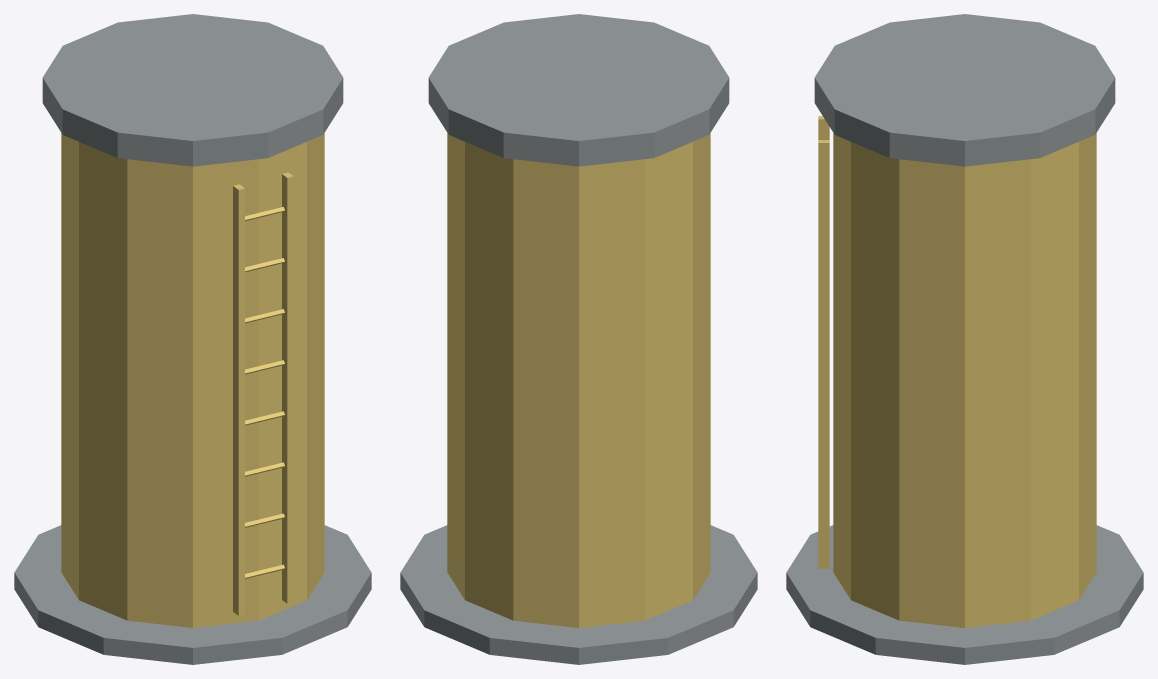
The model's file is ext_deck_crane_pedestal.fbx.
3 views of the same model, side by side, from view 1: azimuth 30°, elevation 25°; view 2: azimuth 150°, elevation 25°; view 3: azimuth 270°, elevation 25° (orthographic).
Parts seen in each view (by area): view 1: ext_deck_crane_pedestal; view 2: ext_deck_crane_pedestal; view 3: ext_deck_crane_pedestal.
Boxes of the visible parts, x1,y1,x2,y2 form: ext_deck_crane_pedestal: [14, 14, 371, 664]; ext_deck_crane_pedestal: [400, 14, 757, 664]; ext_deck_crane_pedestal: [786, 14, 1143, 664].
Size of the model in its own units: 1.9 by 3.01 by 1.9.
